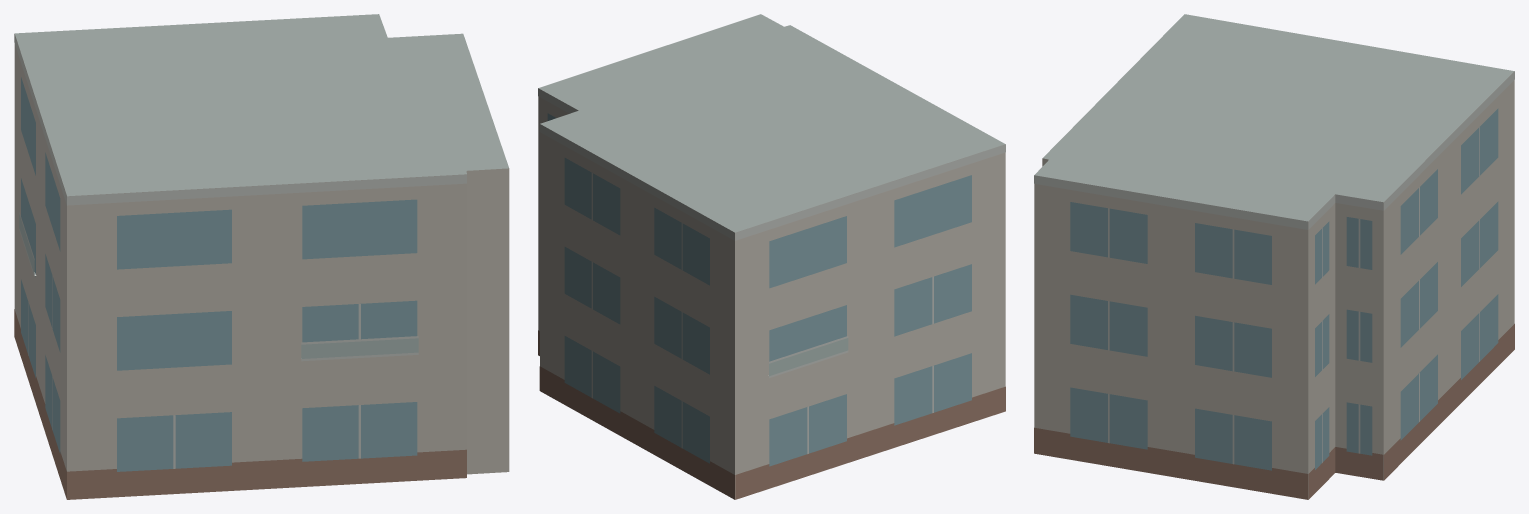
Rendered from survey-upis-32664757.glb.
3 renders of one model, left to right at view 1: azimuth 30°, elevation 25°; view 2: azimuth 150°, elevation 25°; view 3: azimuth 270°, elevation 25°, orthographic. The views are drawn at different scales.
Parts seen in each view (by area): view 1: survey-upis-32664757.tmp; view 2: survey-upis-32664757.tmp; view 3: survey-upis-32664757.tmp.
Boxes of the visible parts, x1,y1,x2,y2 form: survey-upis-32664757.tmp: (14, 14, 509, 499); survey-upis-32664757.tmp: (538, 14, 1005, 499); survey-upis-32664757.tmp: (1034, 14, 1514, 499).
Bounding box in the file's own units: 12.72 × 7.95 × 12.44.
